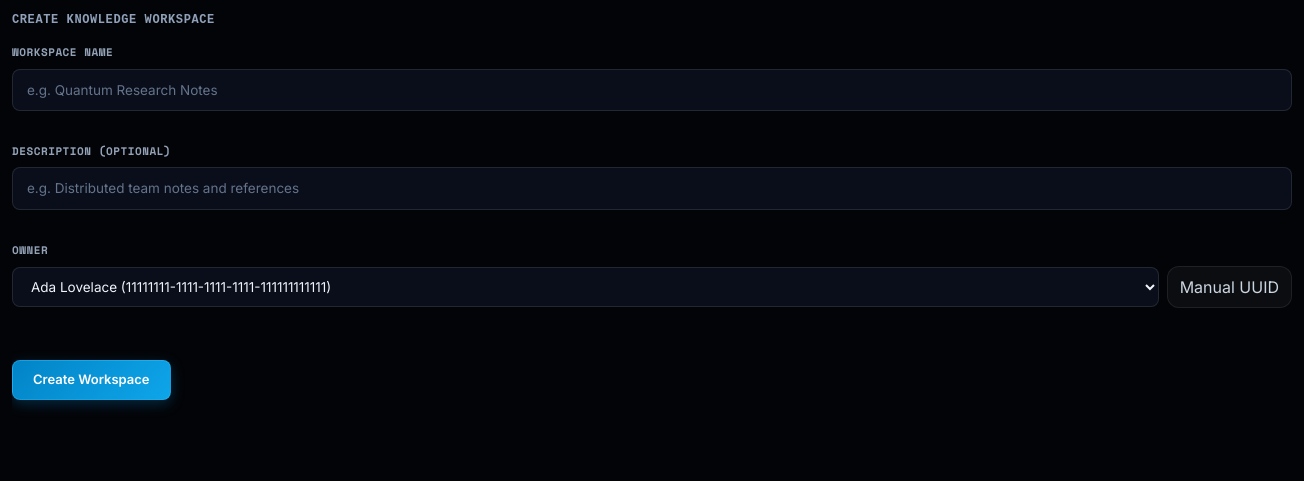
Test case: Workstream A Component Test Suite (§18, §22.2) › WorkspaceCreateForm › handles successful workspace creation
Type "Quantum Lab" into the field with test id "workspace-name-input" at [652, 90], box [12, 68, 1292, 111]
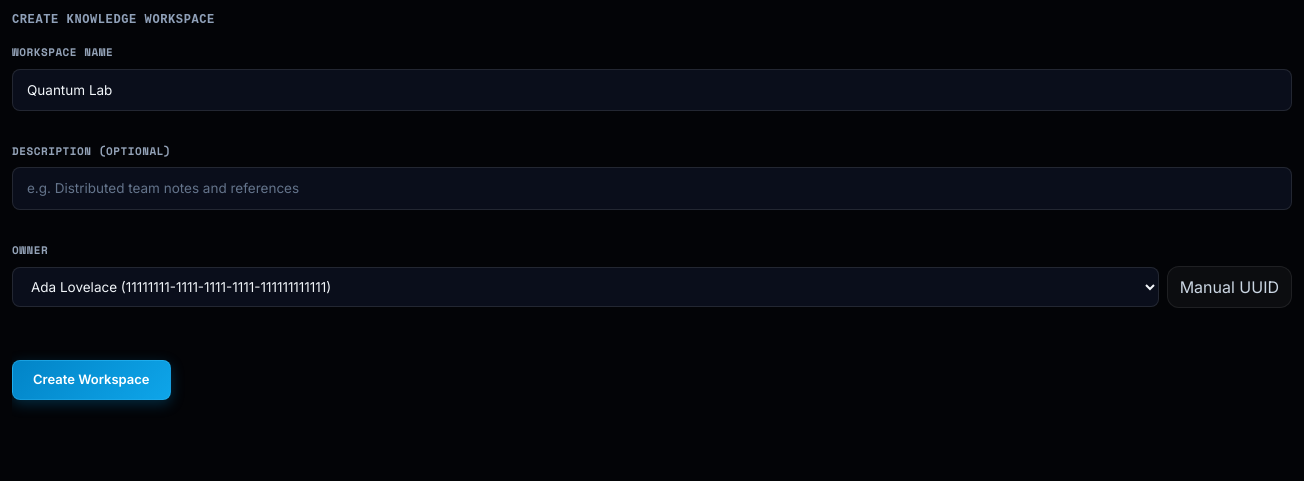
Type "Quantum information project" into the field with test id "workspace-description-input" at [652, 188], box [12, 167, 1292, 210]
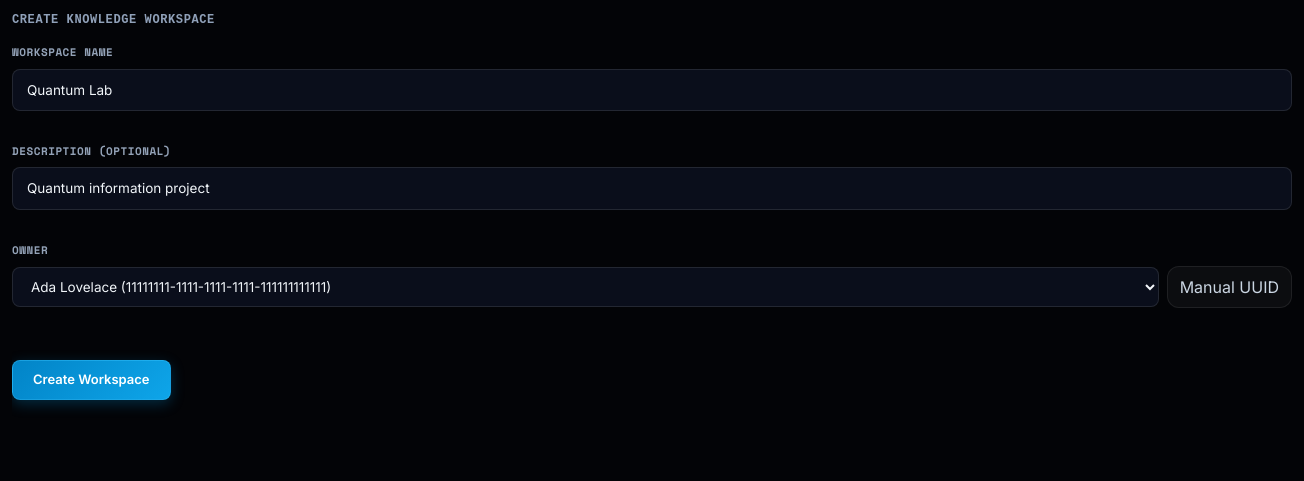
Click the button with test id "workspace-create-submit" at [91, 380], box [12, 360, 171, 400]
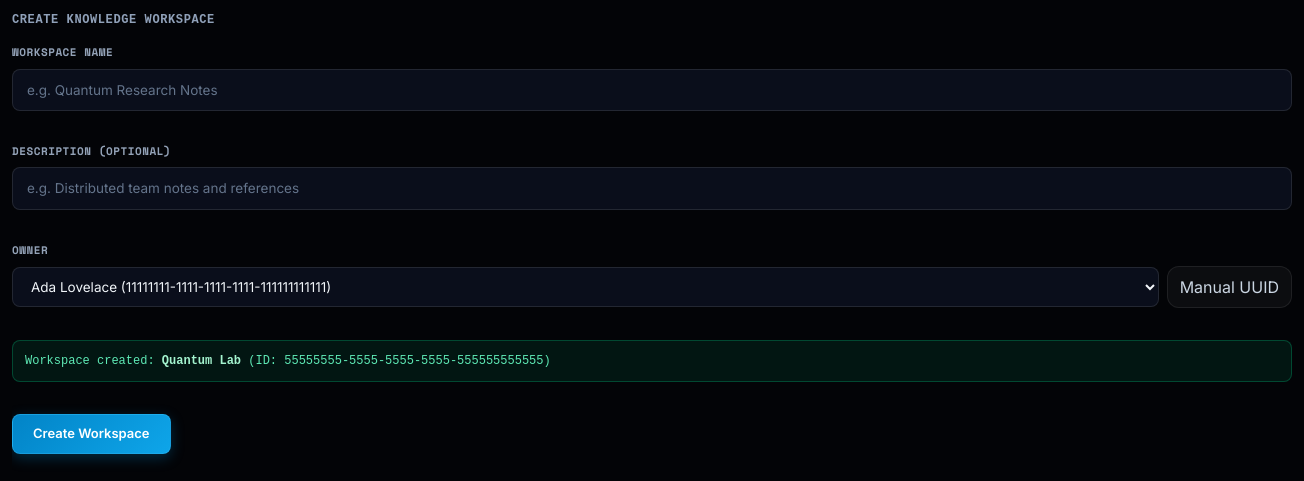
Now the element with test id "workspace-create-success" shows "Workspace created: Quantum Lab", box [12, 340, 1292, 382]
